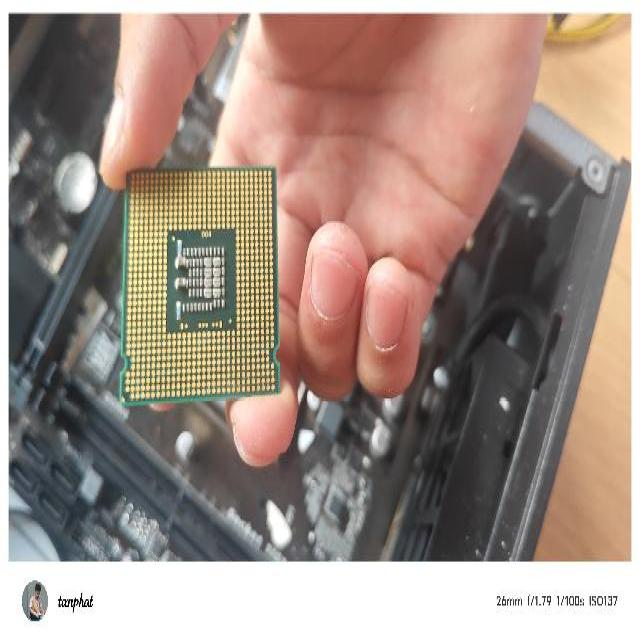CPU: (117, 162, 280, 406)
